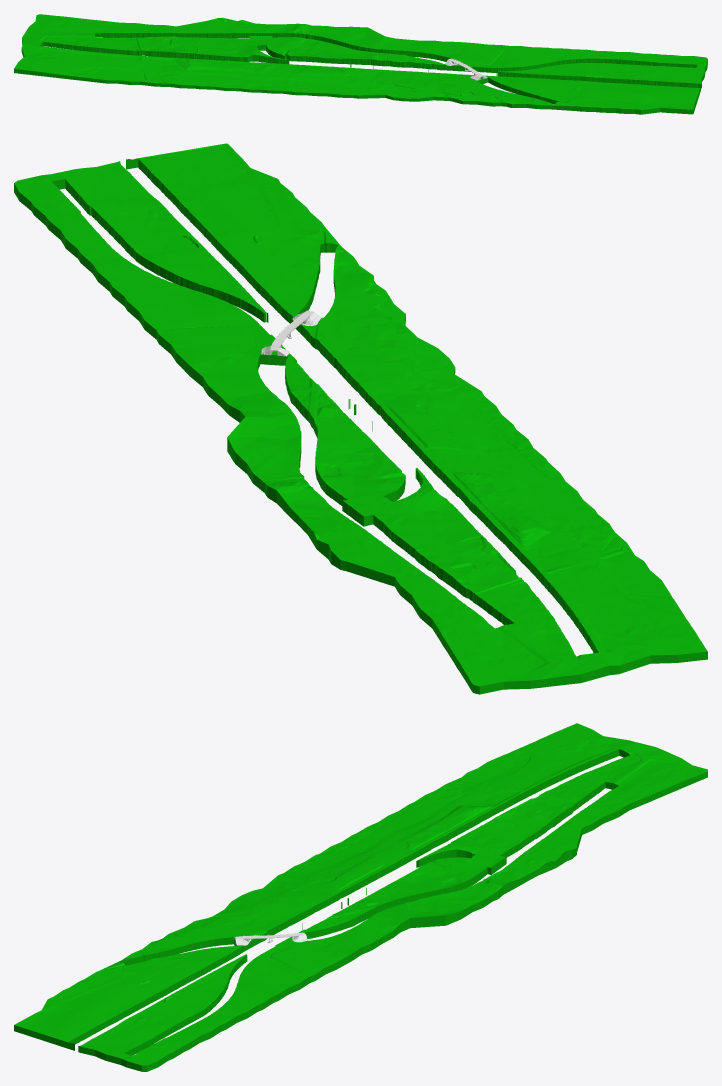
3 renders of one model, top to bottom at view 1: azimuth 30°, elevation 25°; view 2: azimuth 150°, elevation 25°; view 3: azimuth 270°, elevation 25°, orthographic. The views are drawn at different scales.
Visible parts, largest first — view 1: 1UfyLpegb8TBElt664$Xpf; view 2: 1UfyLpegb8TBElt664$Xpf; view 3: 1UfyLpegb8TBElt664$Xpf.
Boxes of the visible parts, x1,y1,x2,y2 form: 1UfyLpegb8TBElt664$Xpf: (14,14,707,114); 1UfyLpegb8TBElt664$Xpf: (14,143,707,694); 1UfyLpegb8TBElt664$Xpf: (14,723,707,1071).
Size of what is drawn, in the model's own units: 1550 by 23.86 by 1324.
